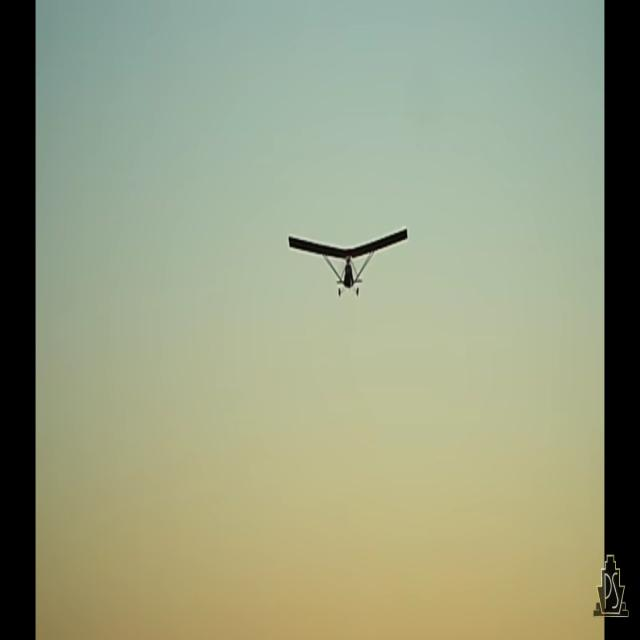iha: (320, 255, 377, 258)
